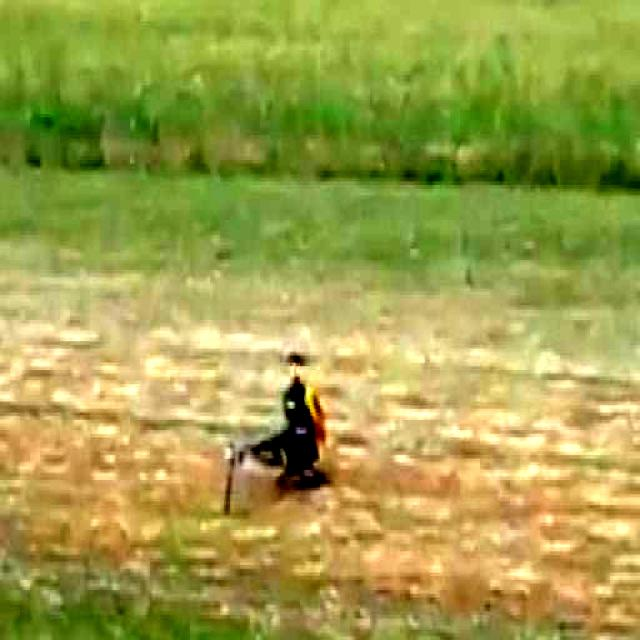drone: (208, 345, 398, 498)
